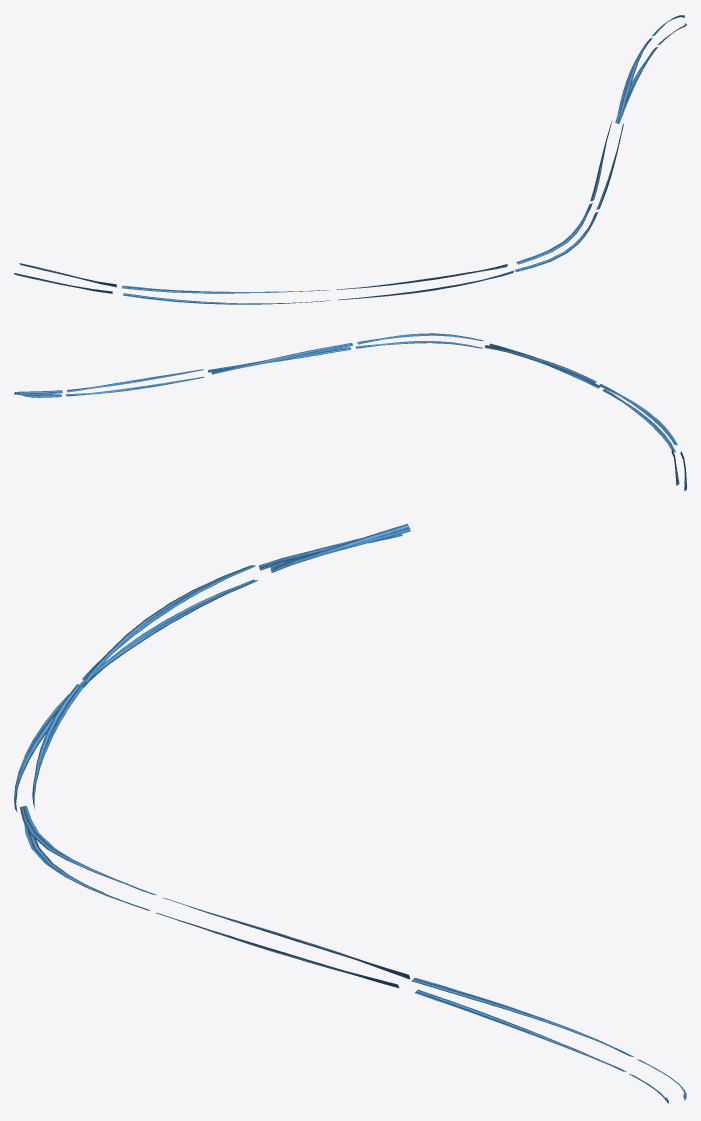
The model's file is Wire_00.FBX.
3 views of the same model, one above another, from view 1: azimuth 30°, elevation 25°; view 2: azimuth 150°, elevation 25°; view 3: azimuth 270°, elevation 25° (orthographic). The views are drawn at different scales.
Parts seen in each view (by area): view 1: Wire_00; view 2: Wire_00; view 3: Wire_00.
Boxes of the visible parts, x1=… form: Wire_00: x1=14, y1=15, x2=686, y2=304; Wire_00: x1=14, y1=333, x2=686, y2=491; Wire_00: x1=14, y1=524, x2=686, y2=1103.
Bounding box in the file's own units: 20.95 × 0.2901 × 10.36.
